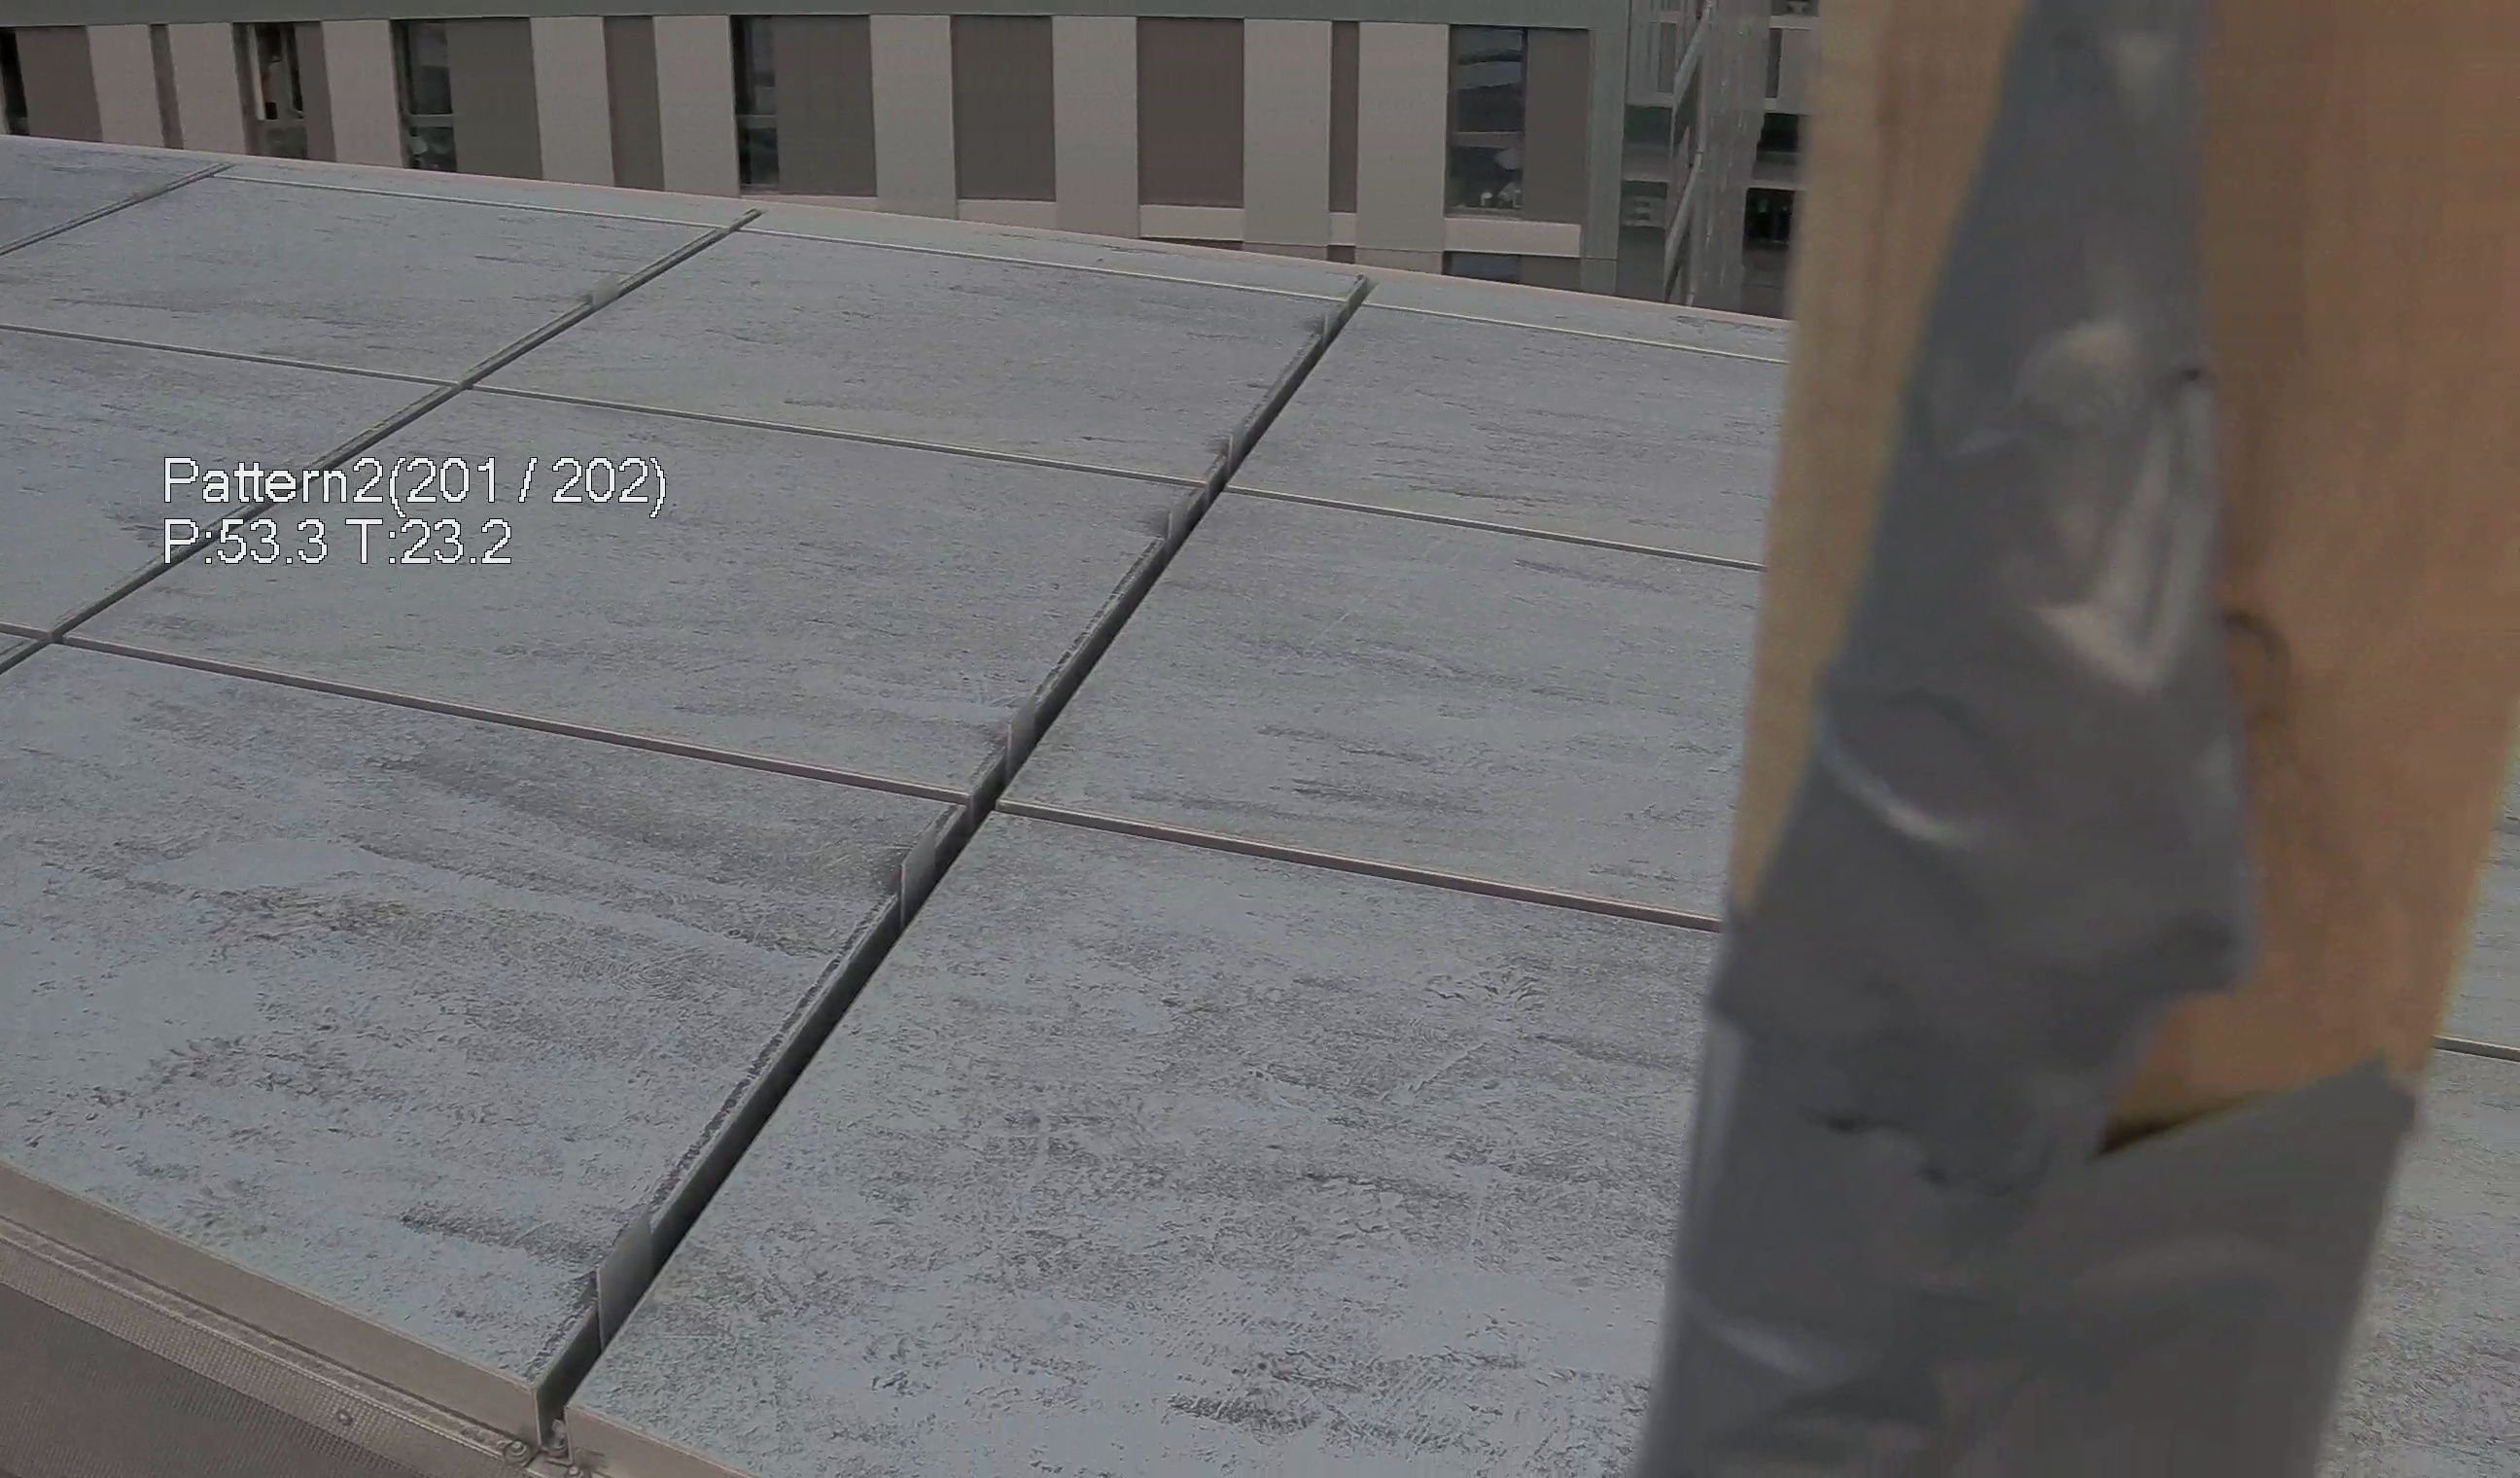Other: (1671, 48, 2511, 1478)
